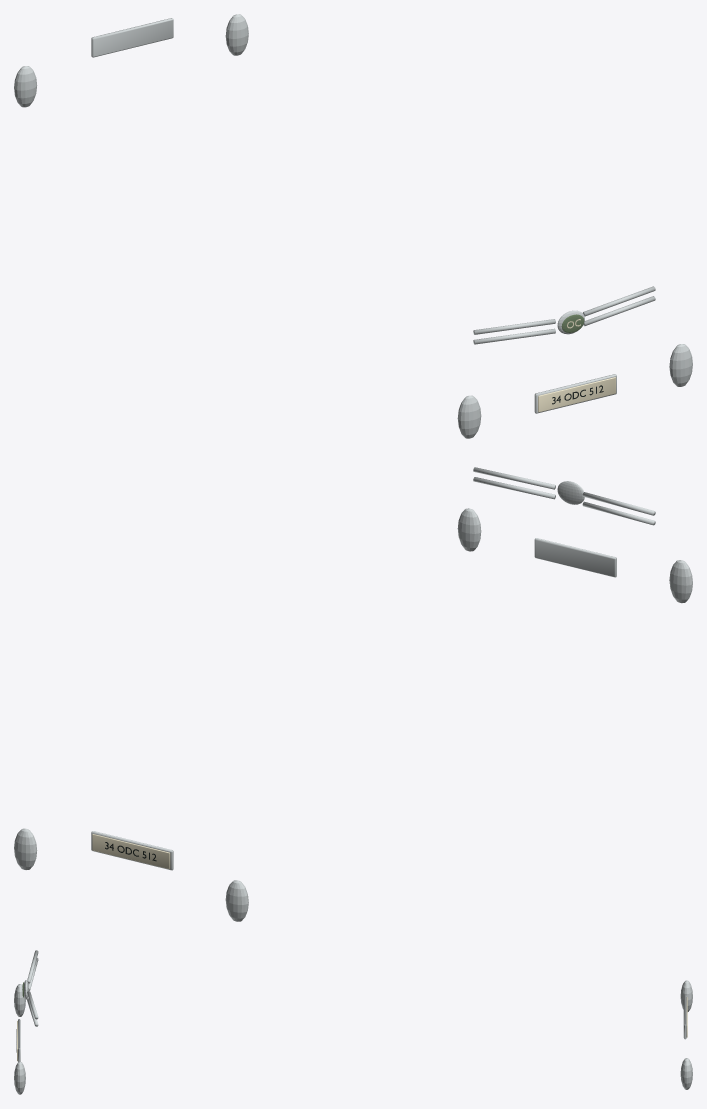
The model's file is TaxiHeritageDetails.glb.
The picture shows the model from 3 angles, top to bottom: view 1: azimuth 30°, elevation 25°; view 2: azimuth 150°, elevation 25°; view 3: azimuth 270°, elevation 25°; orthographic projection. The views are drawn at different scales.
Visible parts, largest first — view 1: heritage_chrome, heritage_ivory; view 2: heritage_chrome, heritage_ivory; view 3: heritage_chrome.
Boxes of the visible parts, box(x1,y1,x2,y2) form: heritage_chrome: box(14, 14, 692, 438); heritage_ivory: box(538, 319, 615, 412); heritage_chrome: box(14, 467, 692, 921); heritage_ivory: box(92, 834, 170, 868); heritage_chrome: box(14, 950, 692, 1094).
Bounding box in the file's own units: 0.884 × 0.357 × 2.96.
